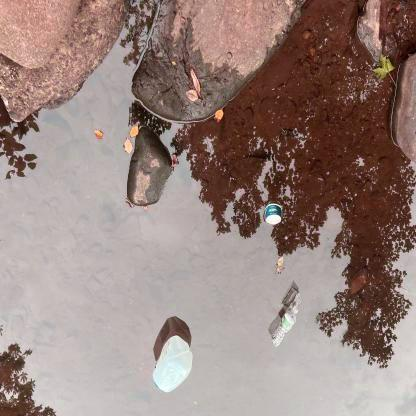Plastic: (147, 332, 200, 394), (263, 300, 304, 349)
Trash: (262, 201, 283, 229)
